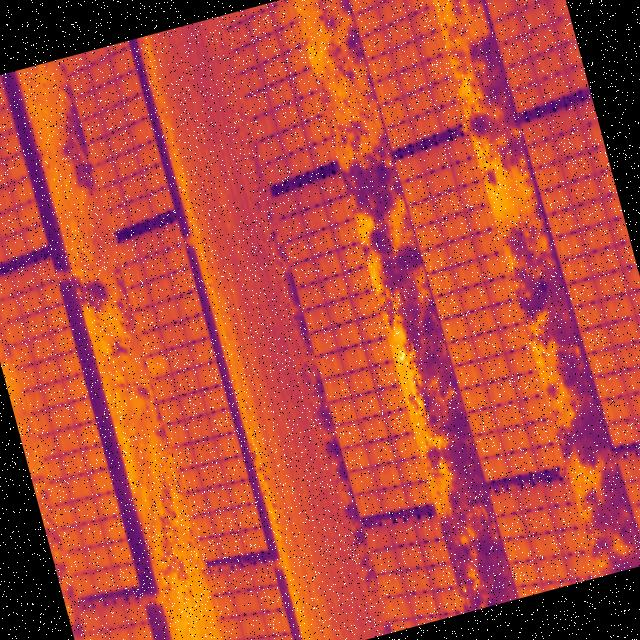Hotspot: (146, 352, 170, 377)
